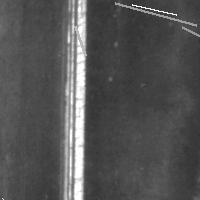scratches: (56, 1, 88, 199), (110, 0, 200, 30), (177, 22, 200, 77), (127, 0, 181, 20), (70, 21, 90, 60), (0, 193, 42, 200)
